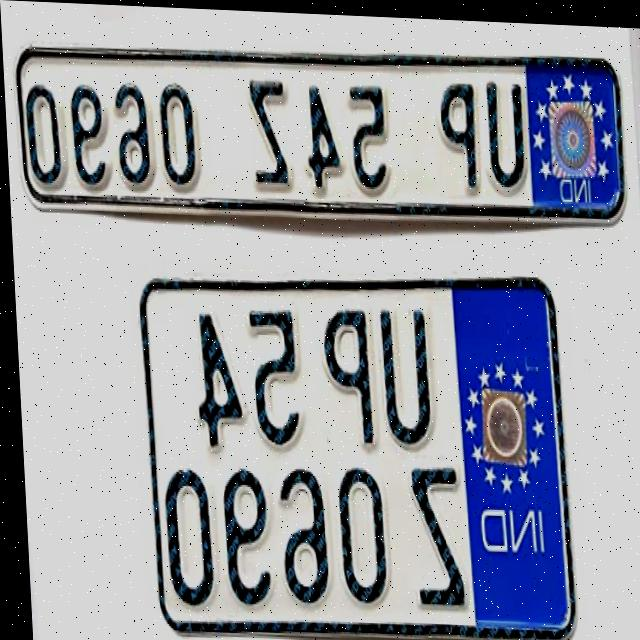plate: (127, 252, 574, 640), (8, 24, 630, 242)
